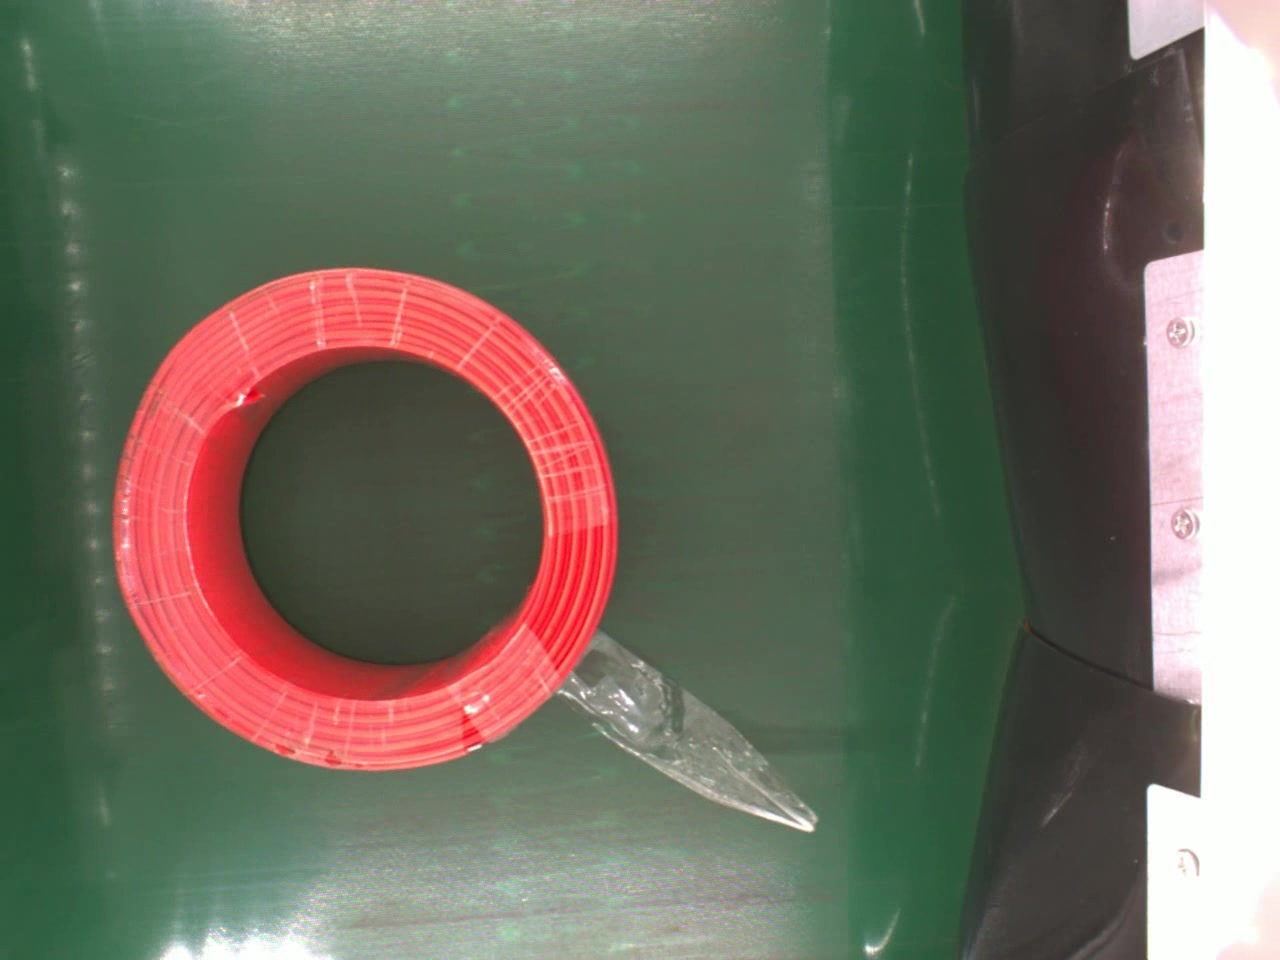red: (106, 264, 621, 770)
